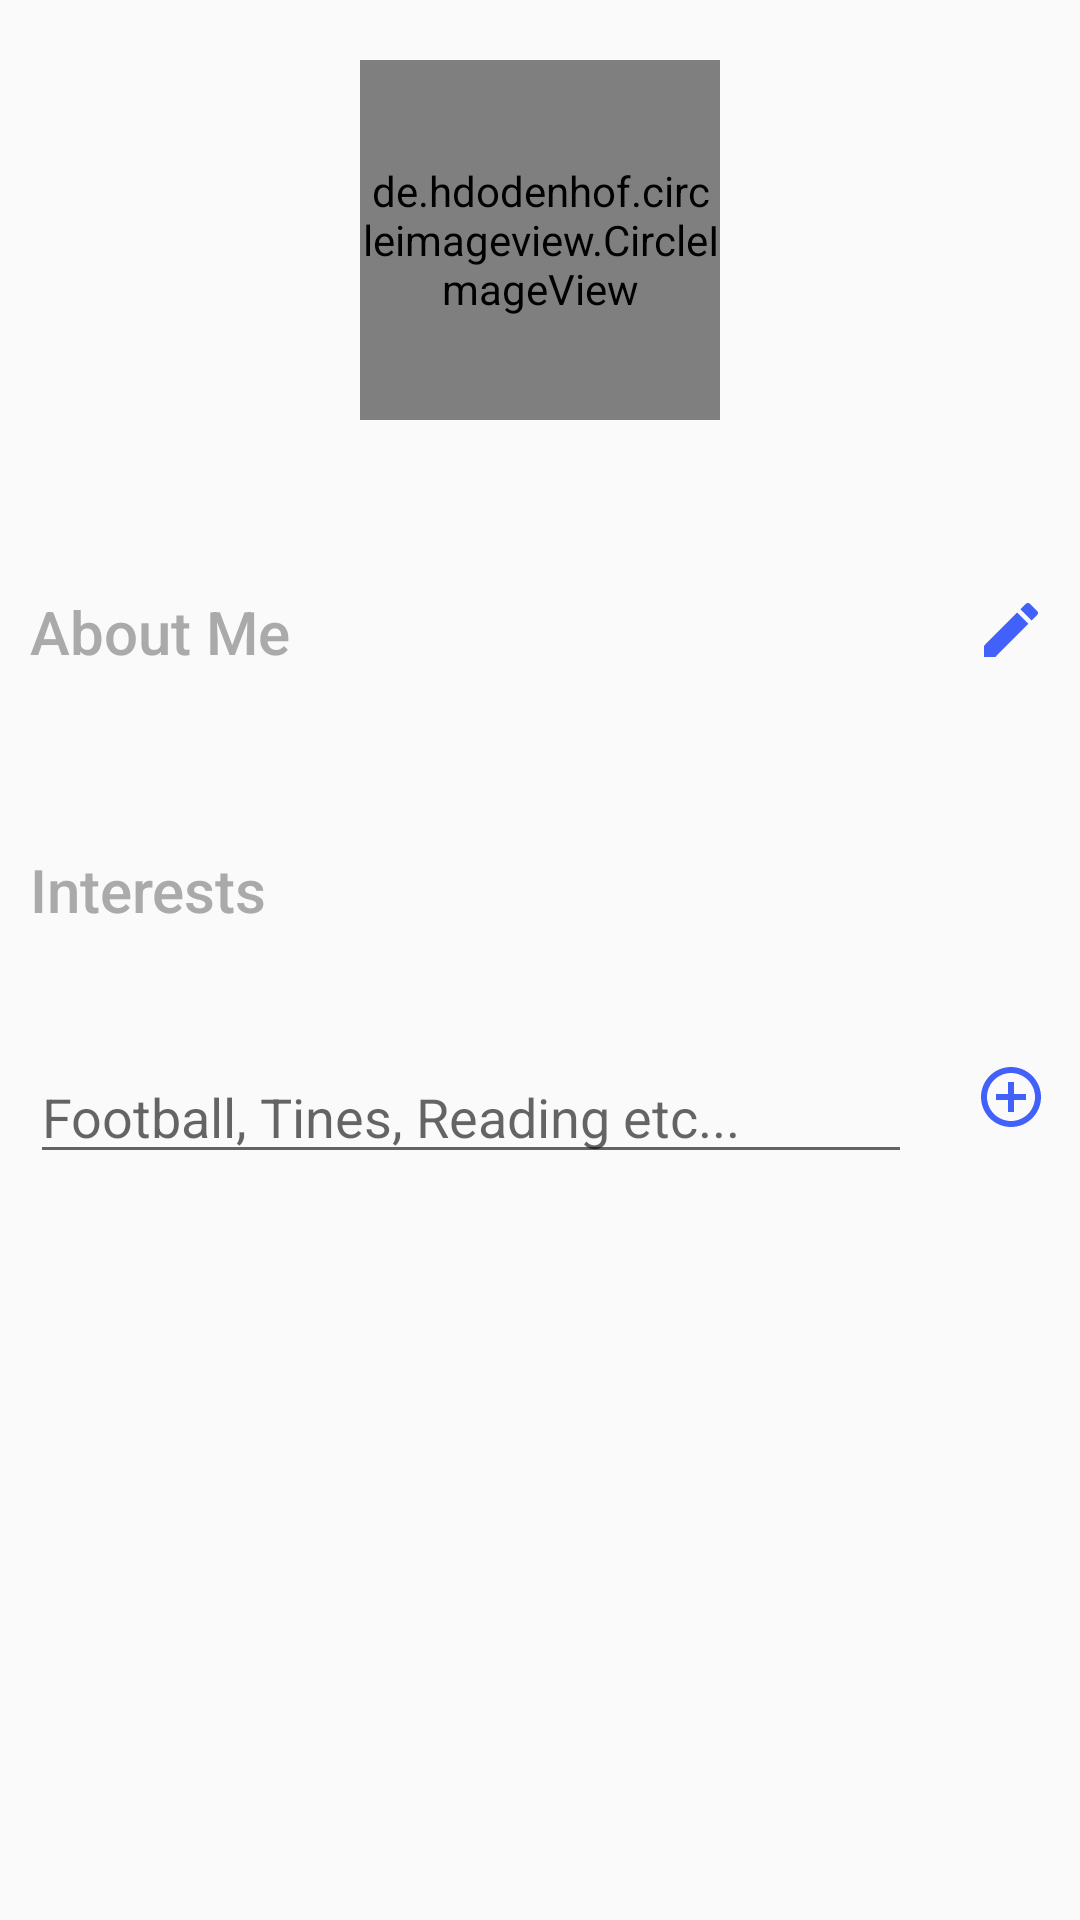

Icons on this 1080px×1920px Android screen, each with the point to tap as [x,y]:
add circle: [1011,1097]
edit: [1011,630]
